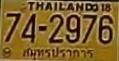2: (49, 14, 63, 42)
4: (21, 13, 35, 42)
6: (98, 14, 112, 43)
7: (5, 12, 20, 41), (82, 14, 96, 43)
9: (65, 14, 80, 42)
SPK: (21, 46, 96, 61)
